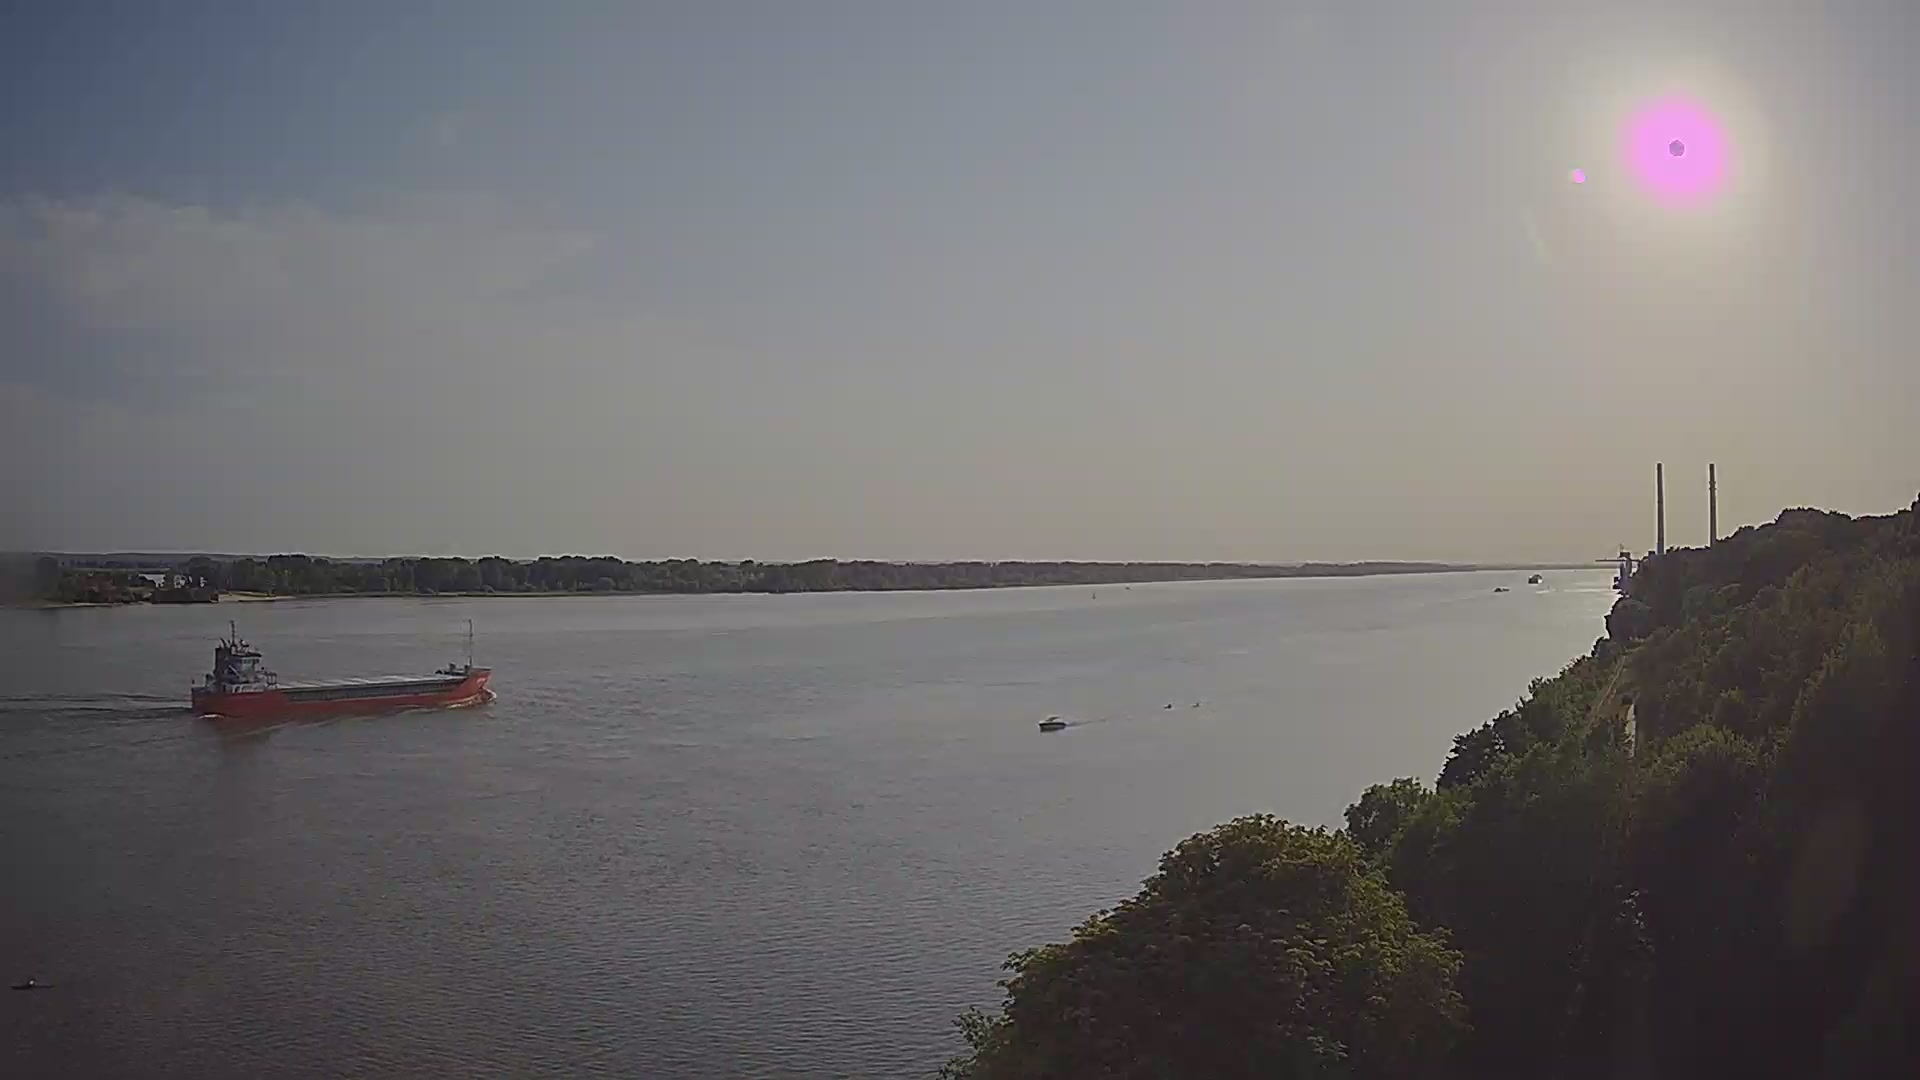human: (25, 977, 38, 988)
sea: (187, 618, 491, 717), (1038, 716, 1068, 732), (9, 982, 58, 992), (1527, 574, 1545, 585), (1493, 586, 1511, 593)
